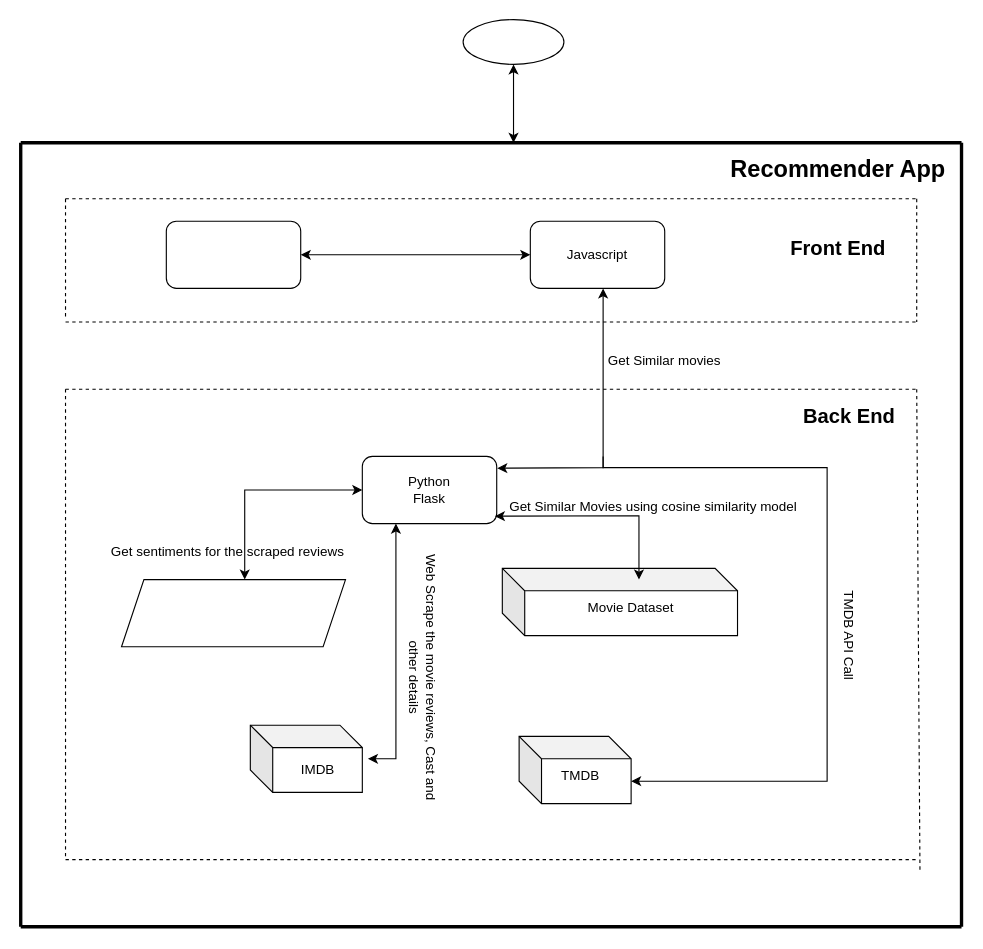
This 983x949 diagram has some shape labels left out. Here are the shapes that lost their labels. From the top down, the centre of each, then its label:
At point (513, 41): "User".
At point (233, 254): "HTML/CSS".
At point (233, 612): "Sentiment Analysis Model Naive Bayes Classifier".
